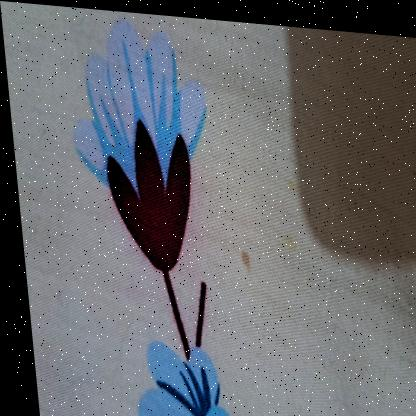spot: (231, 237, 249, 267), (275, 221, 295, 247), (280, 163, 297, 190)
